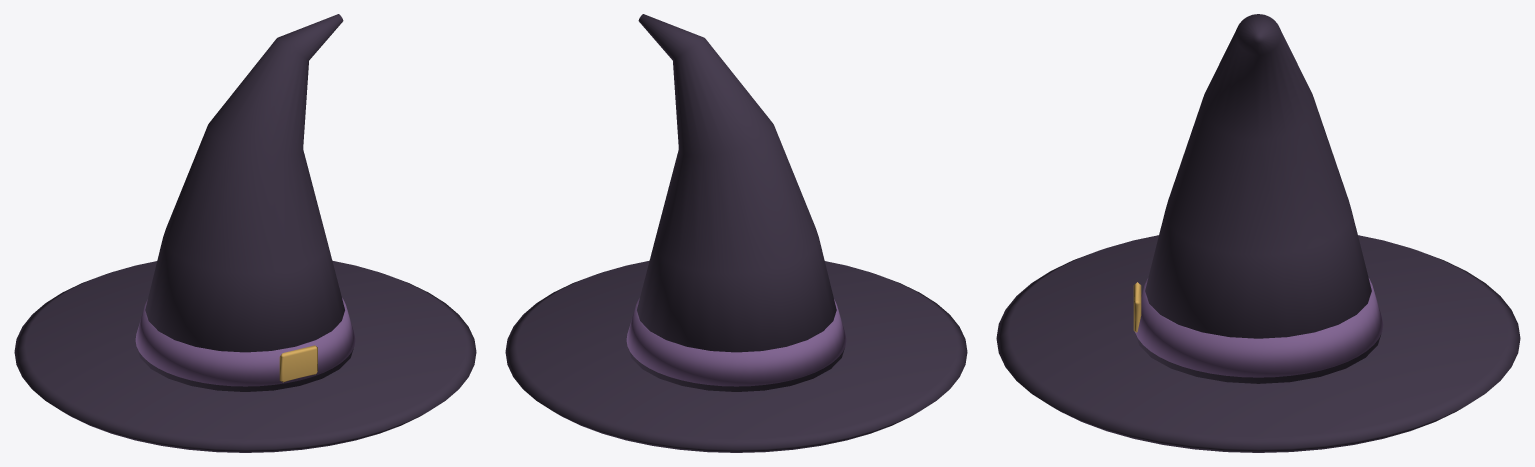
Rendered from witch_hat.glb.
The picture shows the model from 3 angles, left to right: view 1: azimuth 30°, elevation 25°; view 2: azimuth 150°, elevation 25°; view 3: azimuth 270°, elevation 25°; orthographic projection. The views are drawn at different scales.
Parts seen in each view (by area): view 1: LH_witch_hat; view 2: LH_witch_hat; view 3: LH_witch_hat.
Boxes of the visible parts, <box> form: LH_witch_hat: <box>14,14,476,452</box>; LH_witch_hat: <box>505,14,967,452</box>; LH_witch_hat: <box>996,14,1520,452</box>.
Bounding box in the file's own units: 0.42 × 0.3237 × 0.42.
